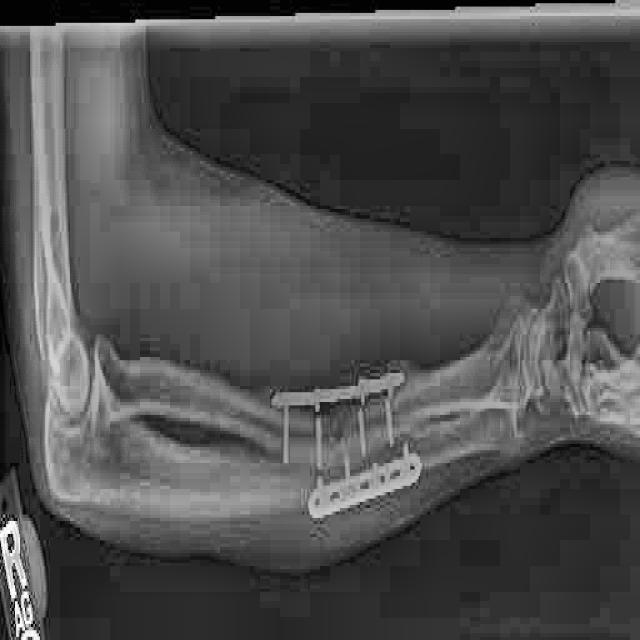forearm fracture: (326, 396, 356, 476)
